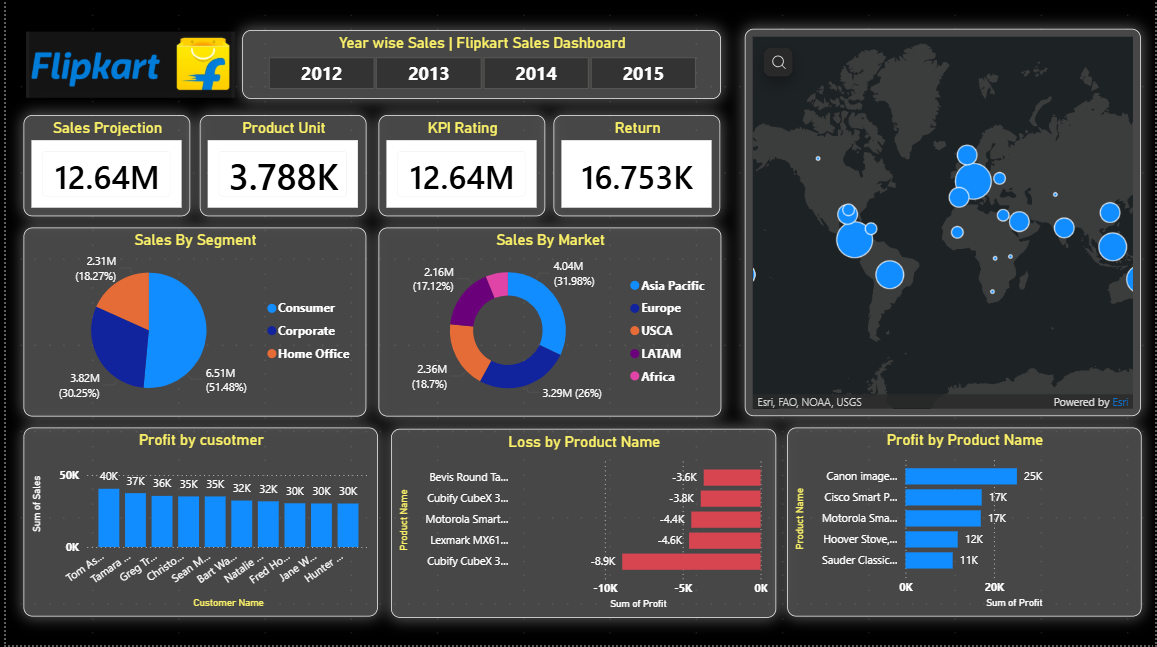

The page's visual inventory and layout, read from the dashboard file:
{"tool":"powerbi","page":{"name":"Duplicate of Page 1","canvas":[1280,720],"ordinal":1},"visuals":[{"type":"slicer","title":"Year wise Sales | Flipkart Sales Dashboard","fields":{"Values":["Orders.Year"]},"box":[262.9,32.9,532.9,77.1],"z":0},{"type":"image","box":[22.9,31.4,232.9,80],"z":1000},{"type":"cardVisual","title":"Sales Projection","fields":{"Data":["Sum(Orders.Sales)"]},"box":[20,128.6,185.7,112.9],"z":2000},{"type":"cardVisual","title":"Product Unit","fields":{"Data":["Count(Orders.Product Name)"]},"box":[215.7,128.6,185.7,112.9],"z":3000},{"type":"cardVisual","title":"KPI Rating","fields":{"Data":["Sum(Orders.Sales)"]},"box":[414.3,128.6,185.7,112.9],"z":4000},{"type":"cardVisual","title":"Return","fields":{"Data":["Count(Orders.Shipping Cost)"]},"box":[610,128.6,185.7,112.9],"z":5000},{"type":"pieChart","title":"Sales By Segment","fields":{"Category":["Orders.Segment"],"Y":["Sum(Orders.Sales)"]},"box":[20,252.9,381.4,210],"z":6000},{"type":"donutChart","title":"Sales By Market","fields":{"Y":["Sum(Orders.Sales)"],"Category":["Orders.Market"]},"box":[414.3,252.9,381.4,210],"z":7000},{"type":"columnChart","title":"Profit by cusotmer","fields":{"Category":["Orders.Customer Name"],"Y":["Sum(Orders.Sales)"]},"box":[20,475.7,394.3,210],"z":8000},{"type":"clusteredBarChart","title":"Loss by Product Name","fields":{"Category":["Orders.Product Name"],"Y":["Sum(Orders.Profit)"]},"box":[428.6,477.1,428.6,210],"z":9000},{"type":"clusteredBarChart","title":"Profit by Product Name","fields":{"Category":["Orders.Product Name"],"Y":["Sum(Orders.Profit)"]},"box":[870,475.7,394.3,210],"z":10000},{"type":"esriVisual","title":"Profit by Product Name","fields":{"Location":["Orders.Region"],"Size":["Count(Orders.Sales)"]},"box":[822.3,32,441,431.3],"z":11000}]}

Visuals, with their boxes in screenshot pixels (x1, y1, x2, y2), scaled from the page's 1280x720 canvas onto the 1157x647 screenshot:
"Year wise Sales | Flipkart Sales Dashboard" slicer: [238, 30, 719, 99]
image: [21, 28, 231, 100]
"Sales Projection" cardVisual: [18, 116, 186, 217]
"Product Unit" cardVisual: [195, 116, 363, 217]
"KPI Rating" cardVisual: [374, 116, 542, 217]
"Return" cardVisual: [551, 116, 719, 217]
"Sales By Segment" pieChart: [18, 227, 363, 416]
"Sales By Market" donutChart: [374, 227, 719, 416]
"Profit by cusotmer" columnChart: [18, 427, 374, 616]
"Loss by Product Name" clusteredBarChart: [387, 429, 775, 617]
"Profit by Product Name" clusteredBarChart: [786, 427, 1143, 616]
"Profit by Product Name" esriVisual: [743, 29, 1142, 416]
